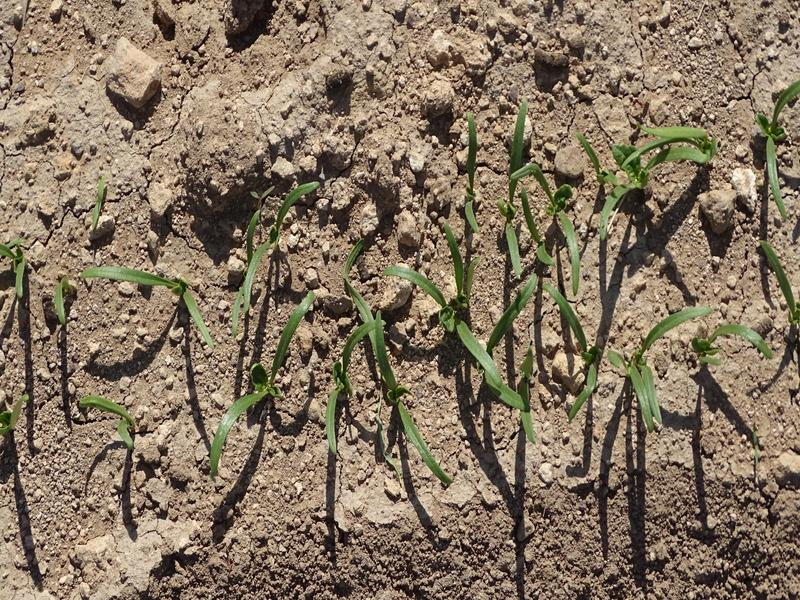Espinaca: (229, 120, 771, 465), (78, 260, 217, 346), (766, 83, 800, 206), (81, 394, 142, 448), (4, 240, 31, 293), (51, 272, 69, 319)
